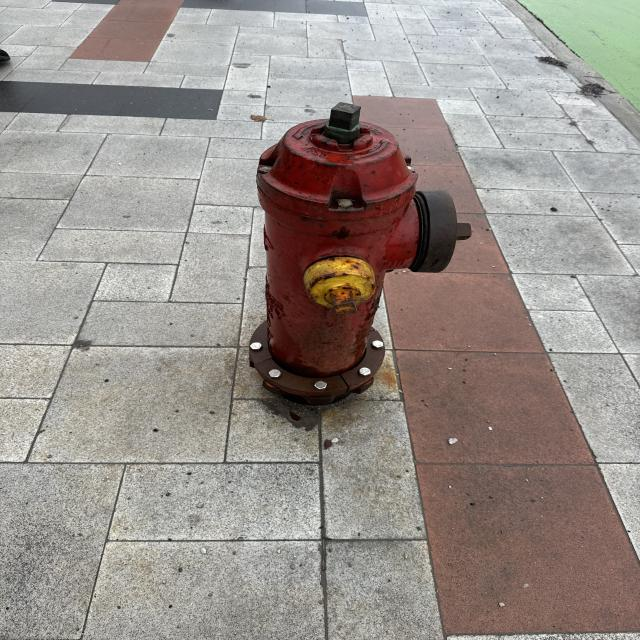Fire hydrant: (245, 101, 474, 408)
